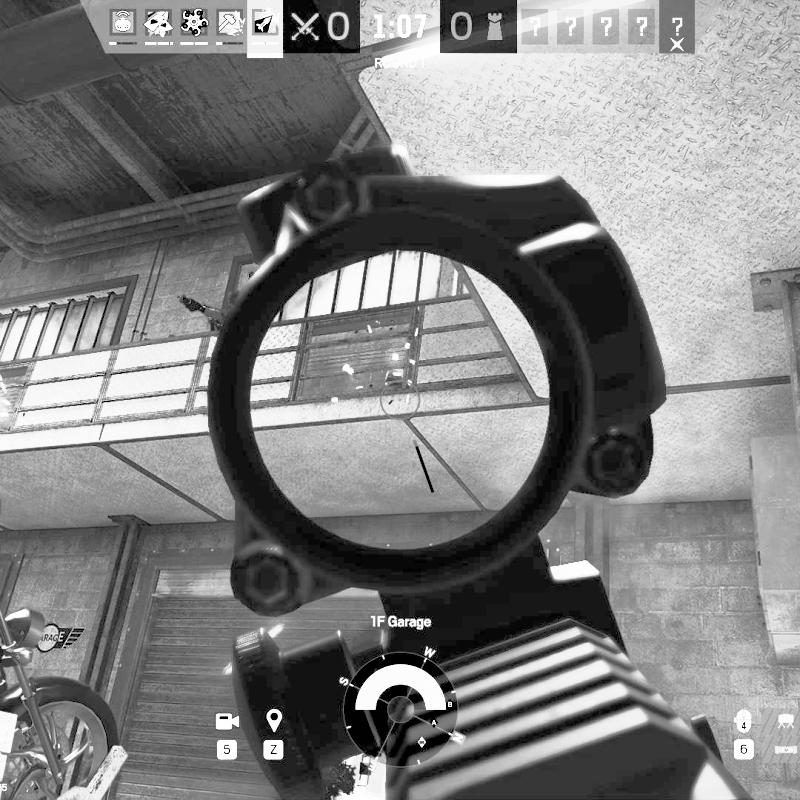Character: (174, 290, 242, 333), (384, 368, 407, 389)
Head: (384, 369, 406, 387)
